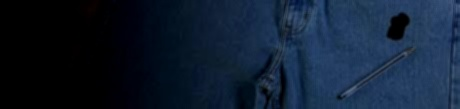ink: (387, 14, 409, 41)
